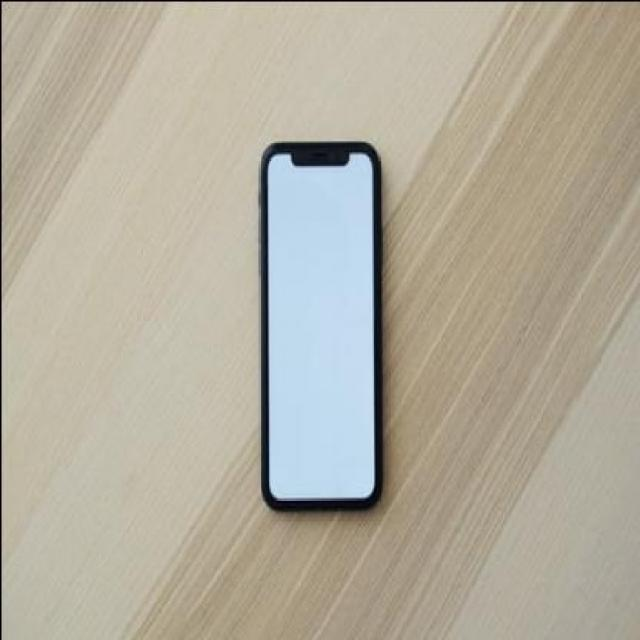phone: (257, 134, 383, 514)
